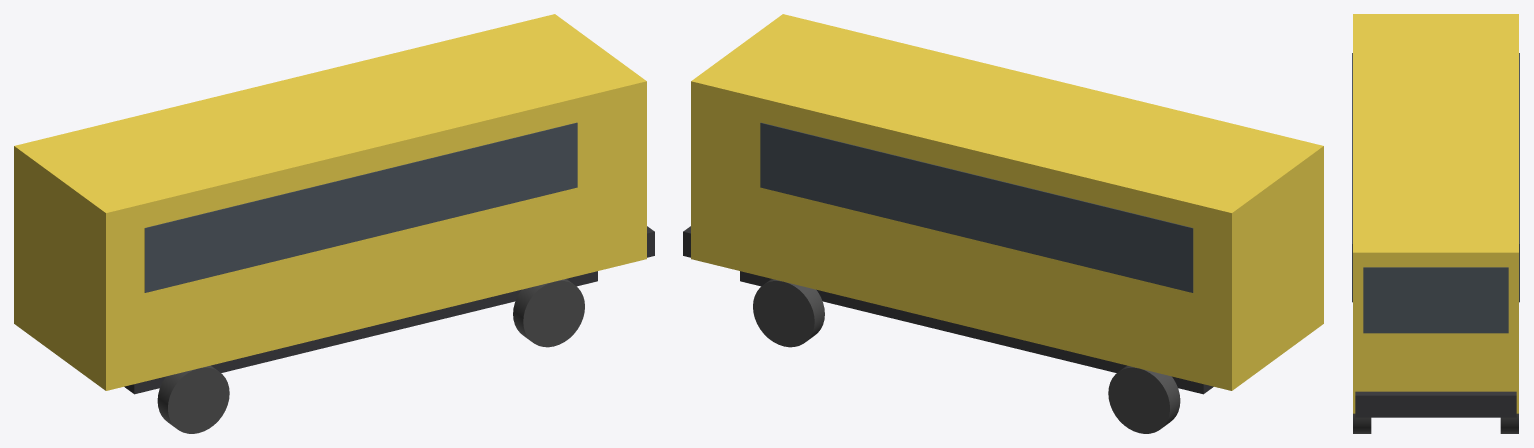
The model's file is kyoto_school_bus.glb.
The picture shows the model from 3 angles, left to right: view 1: azimuth 30°, elevation 25°; view 2: azimuth 150°, elevation 25°; view 3: azimuth 270°, elevation 25°; orthographic projection. The views are drawn at different scales.
Parts seen in each view (by area): view 1: body, windows_r, chassis, wheel_br, wheel_fr; view 2: body, windows_l, chassis, wheel_bl, wheel_fl; view 3: body, windscreen, bumper, wheel_fl, wheel_fr, windows_l, windows_r.
Boxes of the visible parts, box(x1,y1,x2,y2) form: body: box(14, 14, 646, 390); windows_r: box(144, 122, 577, 292); chassis: box(124, 271, 597, 394); wheel_br: box(157, 365, 229, 433); wheel_fr: box(513, 279, 584, 347); body: box(691, 14, 1323, 390); windows_l: box(760, 122, 1193, 292); chassis: box(740, 271, 1213, 394); wheel_bl: box(1108, 365, 1180, 433); wheel_fl: box(753, 279, 824, 347); body: box(1353, 14, 1518, 413); windscreen: box(1363, 267, 1508, 333); bumper: box(1355, 391, 1516, 417); wheel_fl: box(1500, 413, 1518, 433); wheel_fr: box(1353, 413, 1371, 433); windows_l: box(1519, 53, 1519, 302); windows_r: box(1352, 53, 1352, 302).
Bounding box in the file's own units: 7.12 × 3 × 2.08.
